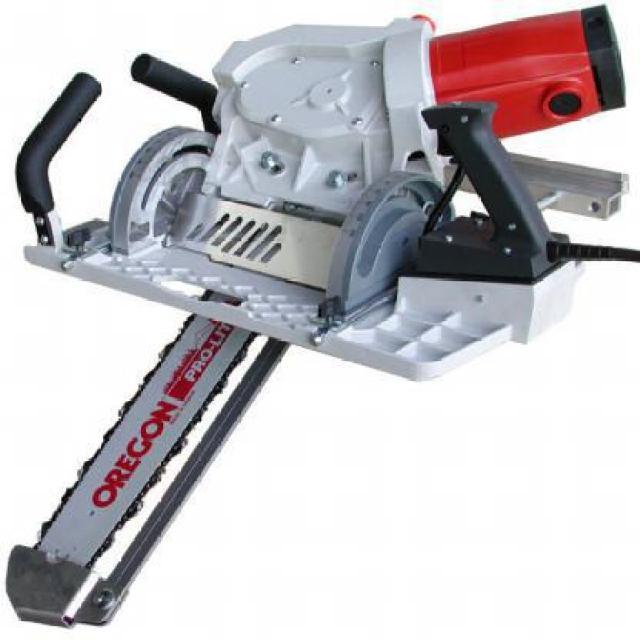Chainsaw: (6, 0, 640, 623)
